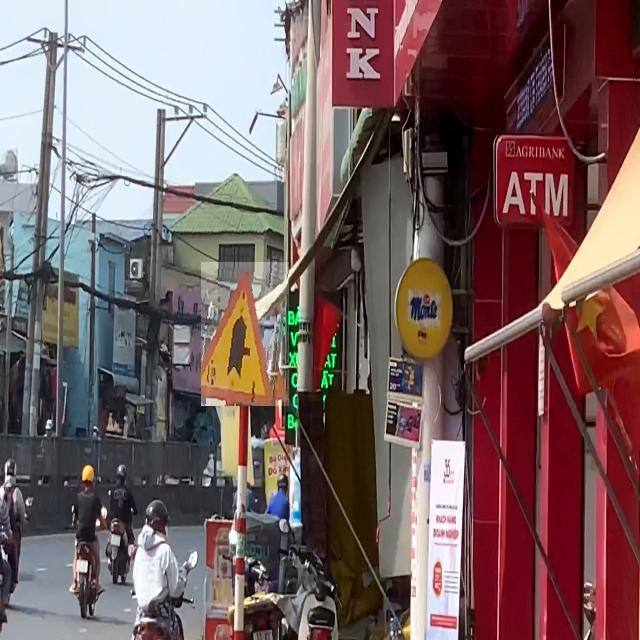bien_nguy_hiem: (201, 262, 289, 406)
